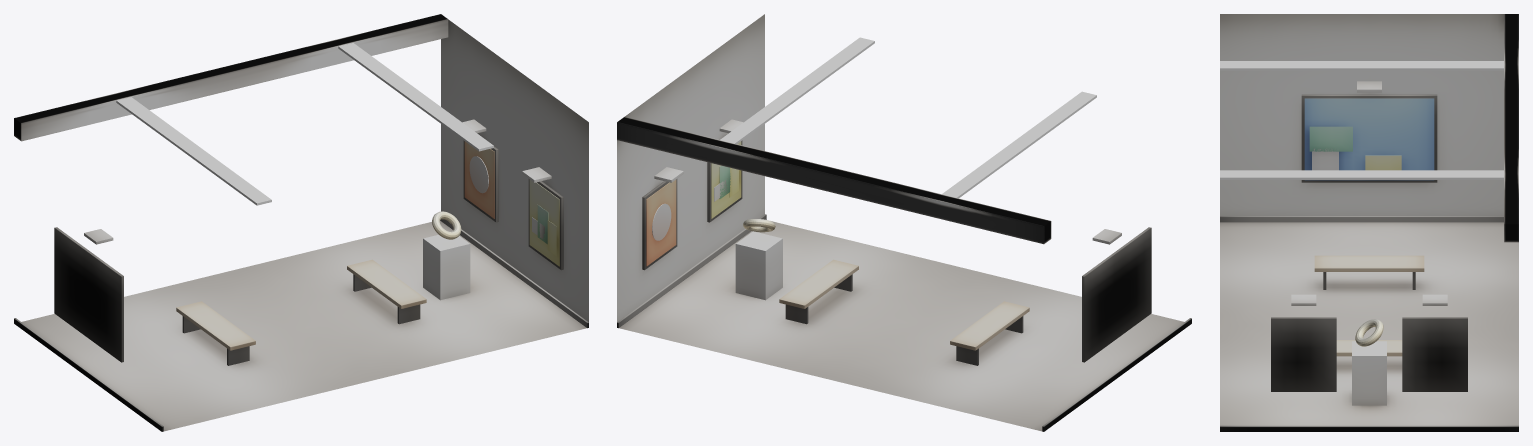
Rendered from gallery-tile.glb.
3 views of the same model, side by side, from view 1: azimuth 30°, elevation 25°; view 2: azimuth 150°, elevation 25°; view 3: azimuth 270°, elevation 25° (orthographic).
Visible parts, largest first — view 1: room; view 2: room; view 3: room.
Part boxes in pixels (box(x1,y1,x2,y2)): room: box(14, 14, 588, 431); room: box(617, 14, 1191, 431); room: box(1220, 14, 1518, 431).
Bounding box in the file's own units: 10 × 4.6 × 6.
